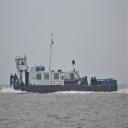tugboat: (11, 55, 120, 97)
